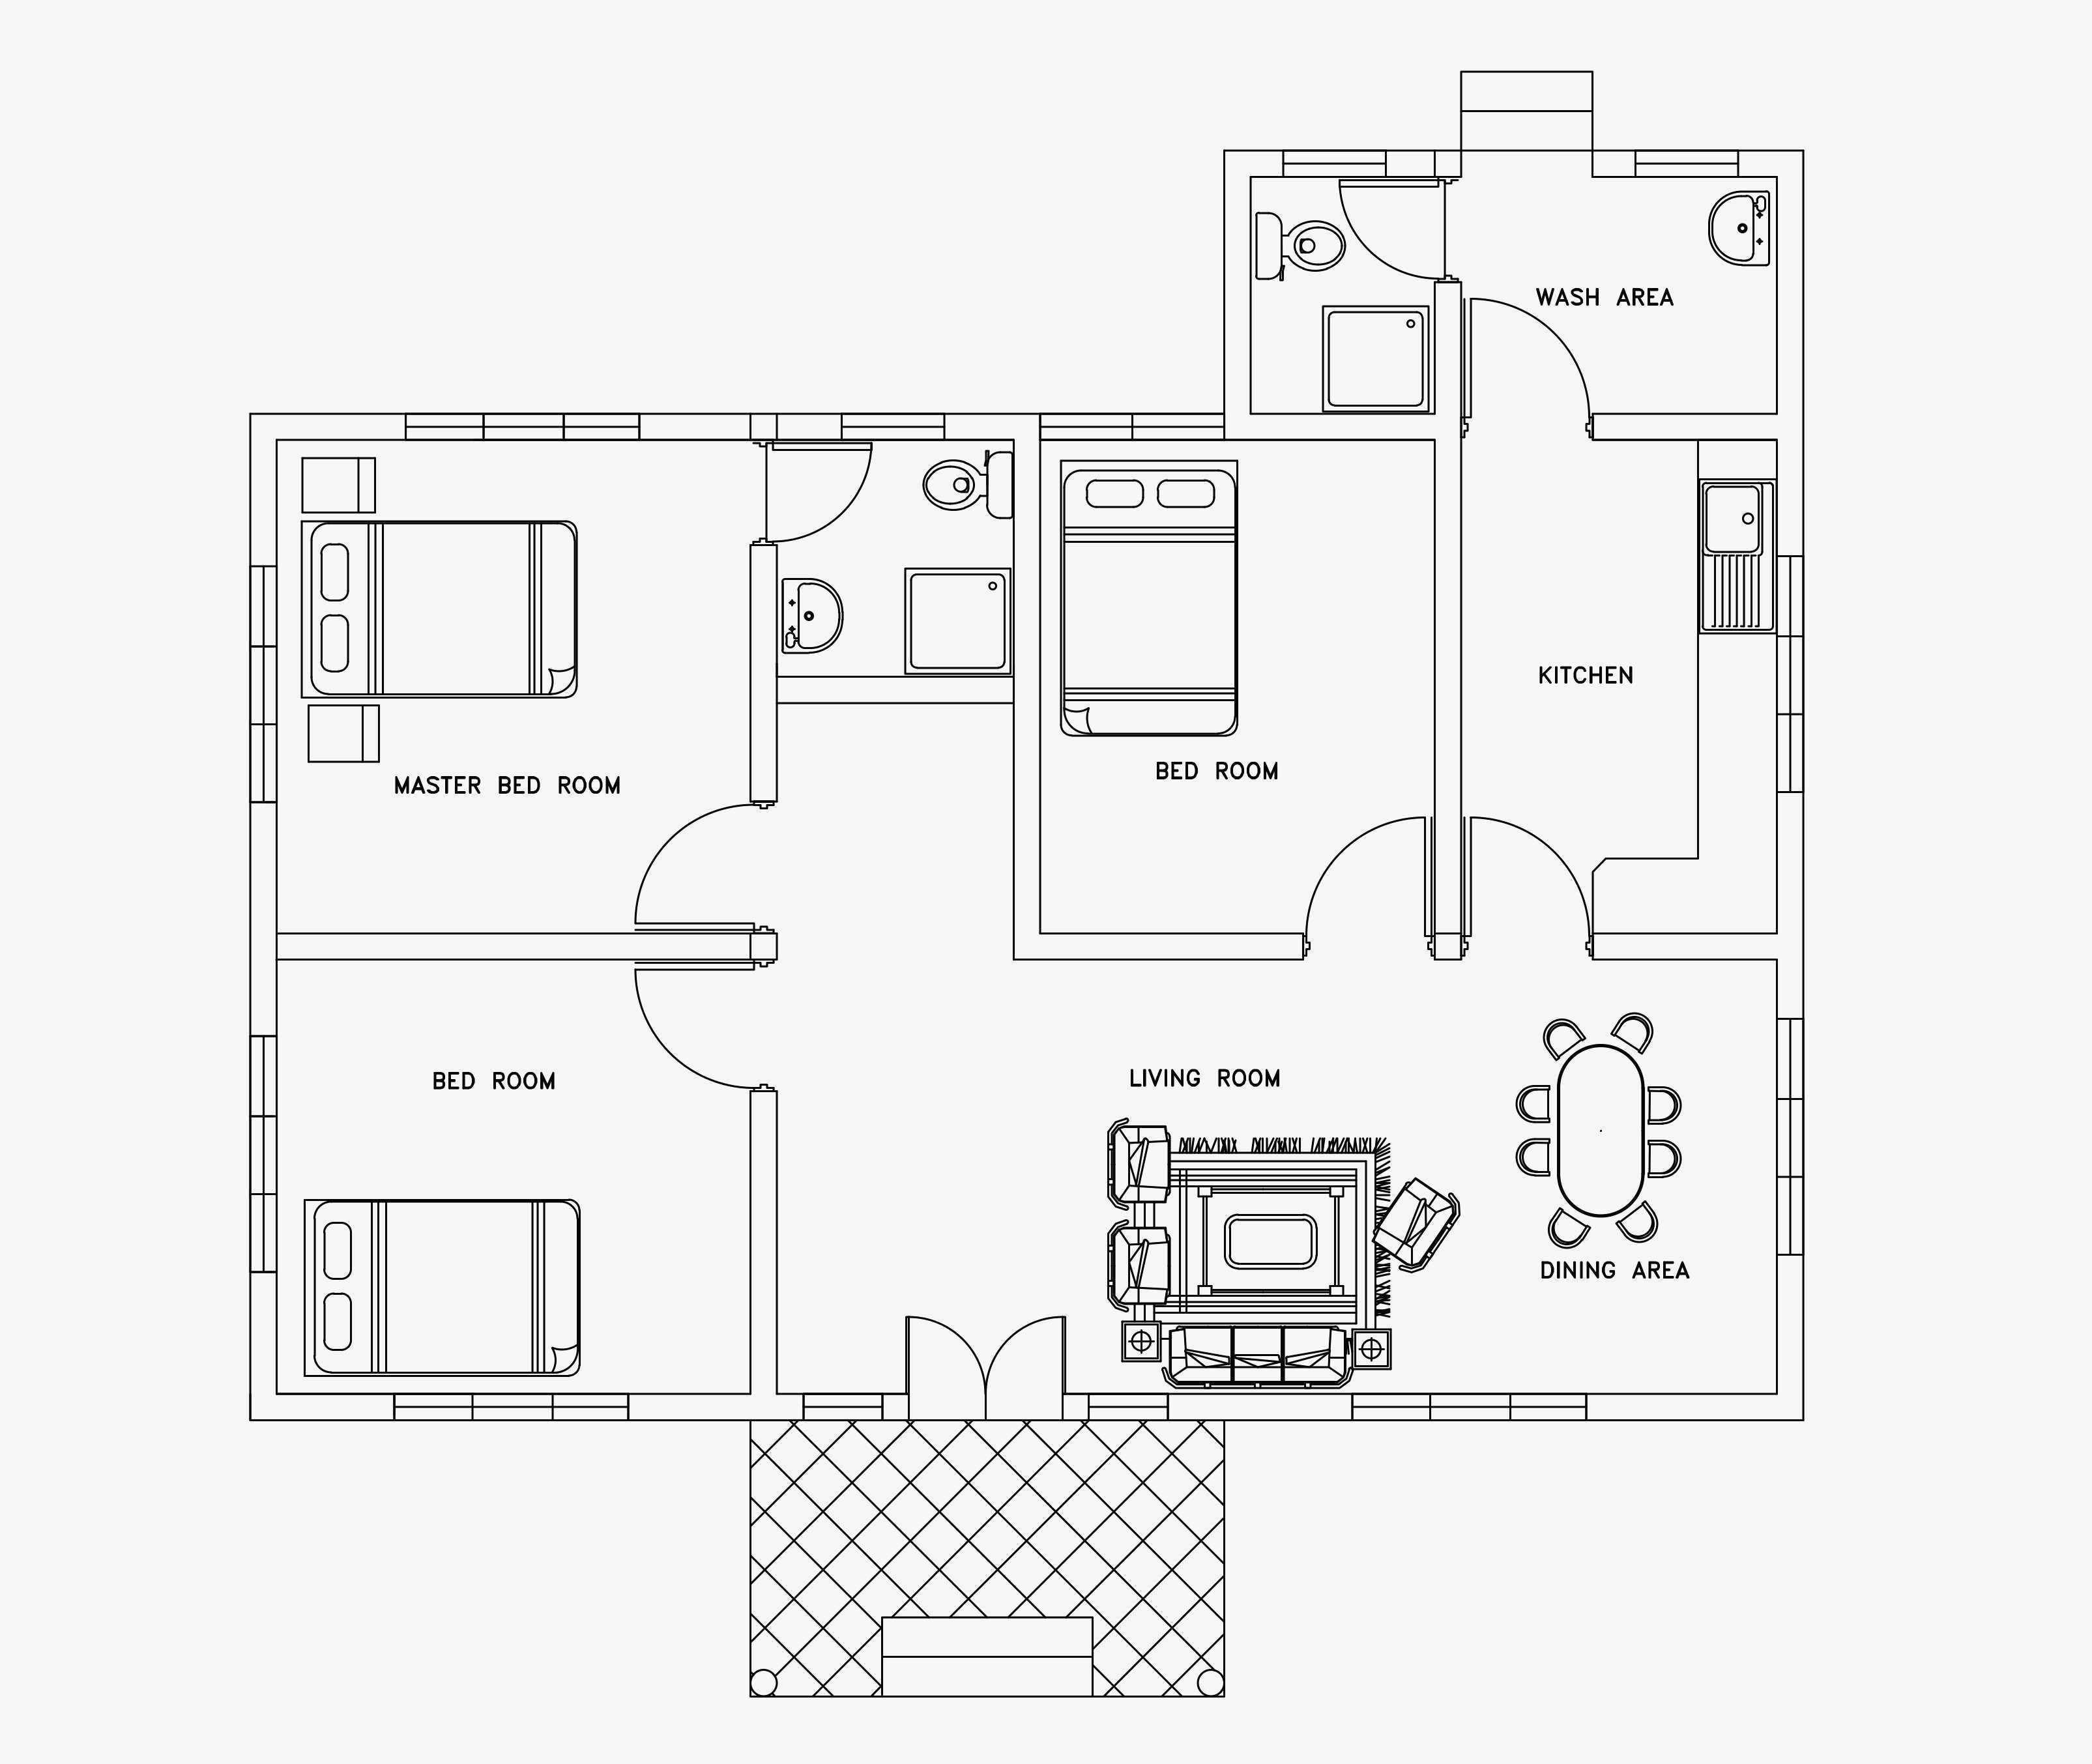door: (898, 1307, 1075, 1393), (630, 961, 748, 1085), (1465, 289, 1583, 413), (1465, 807, 1583, 931), (1313, 800, 1430, 922), (630, 808, 748, 931), (779, 444, 875, 542), (1339, 182, 1436, 278)
